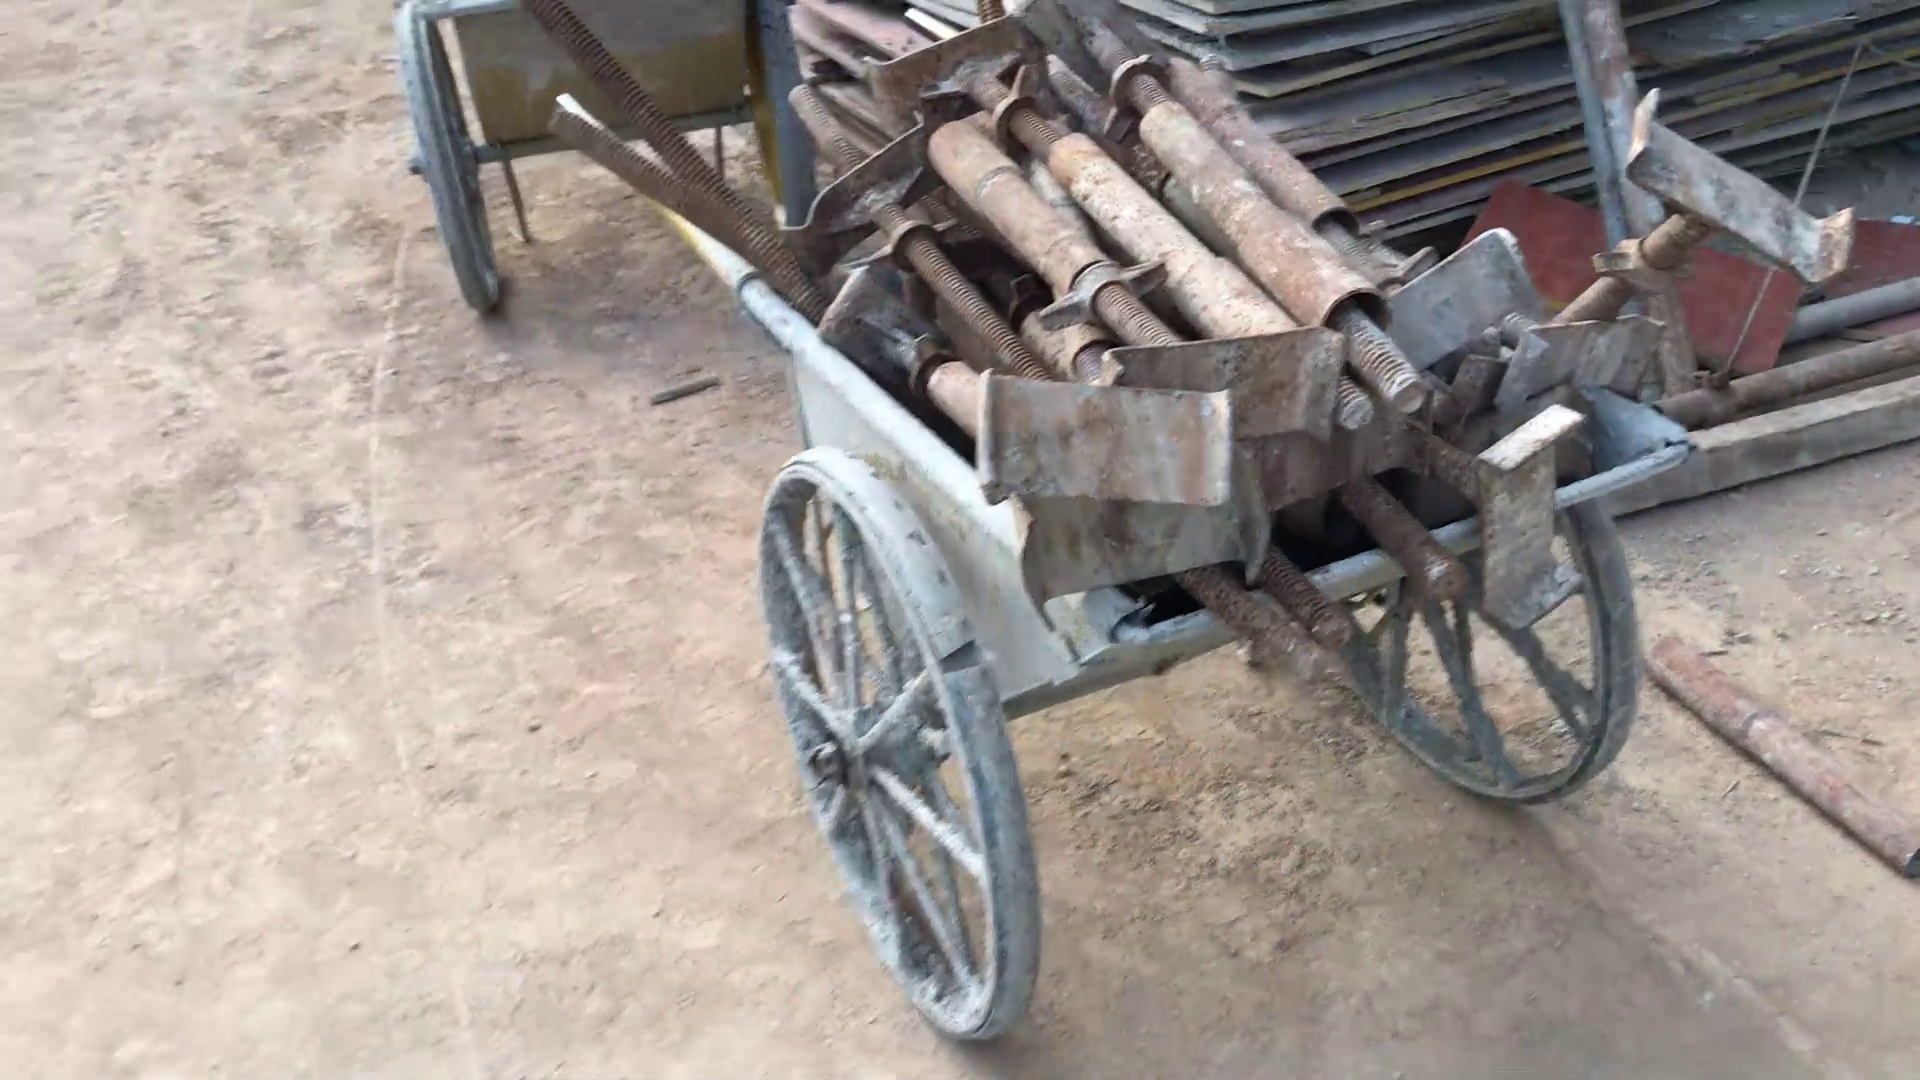handcart: (597, 90, 1700, 1064), (386, 1, 839, 316)
